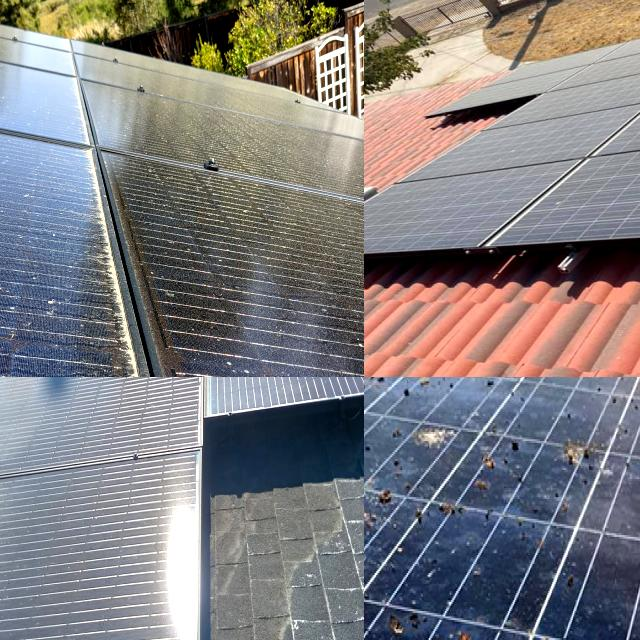bird: (374, 474, 429, 530), (556, 428, 603, 486), (383, 601, 431, 640), (364, 525, 393, 584), (421, 417, 462, 450), (585, 377, 640, 400), (486, 377, 542, 397), (453, 610, 480, 640), (397, 377, 432, 395), (452, 377, 482, 397), (364, 377, 386, 403), (473, 468, 492, 498), (453, 377, 474, 398)
dust: (78, 131, 207, 377), (261, 229, 364, 377), (223, 107, 364, 215), (0, 163, 105, 271), (0, 490, 67, 640), (0, 381, 66, 523), (0, 43, 120, 98), (14, 377, 73, 468), (63, 377, 143, 437)
